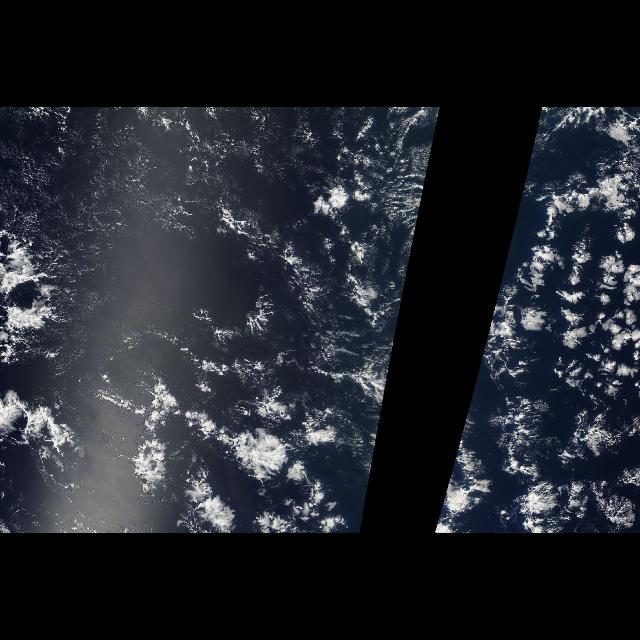Flower: (129, 108, 441, 528), (434, 108, 640, 528)
Gravel: (230, 208, 396, 390)
Sugar: (0, 108, 274, 252)
